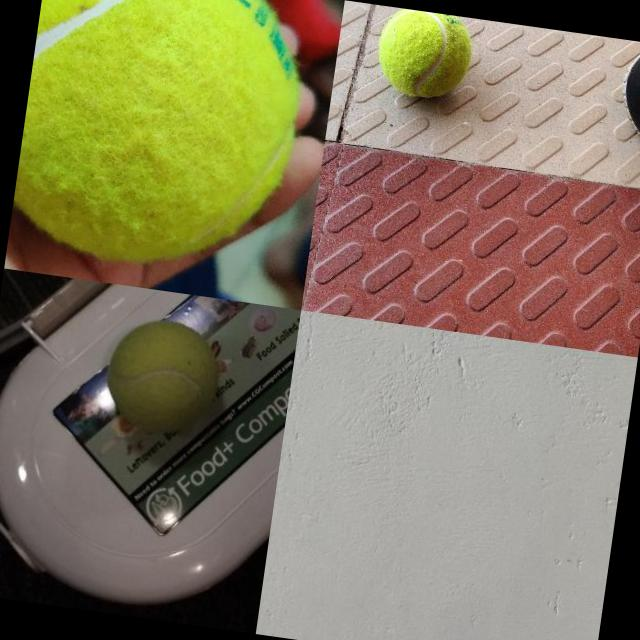Tennis Ball: (8, 0, 312, 281), (100, 313, 227, 442), (372, 6, 477, 103)
